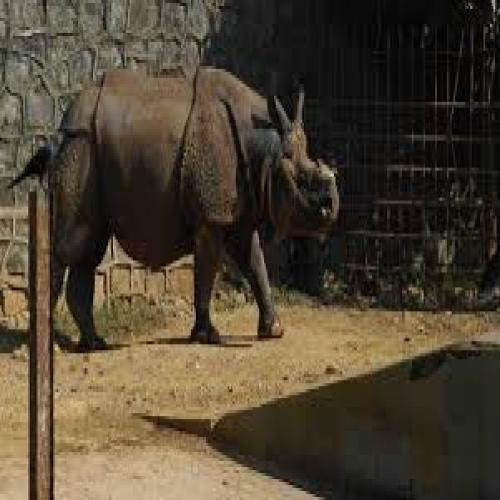rhino-endangered: (23, 69, 340, 346)
